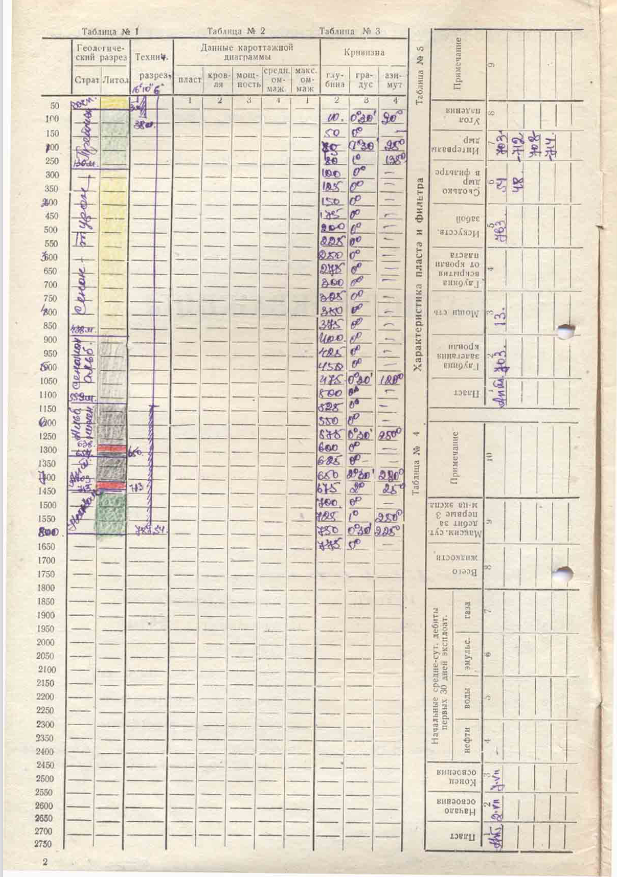Bordered: (315, 39, 411, 550)
